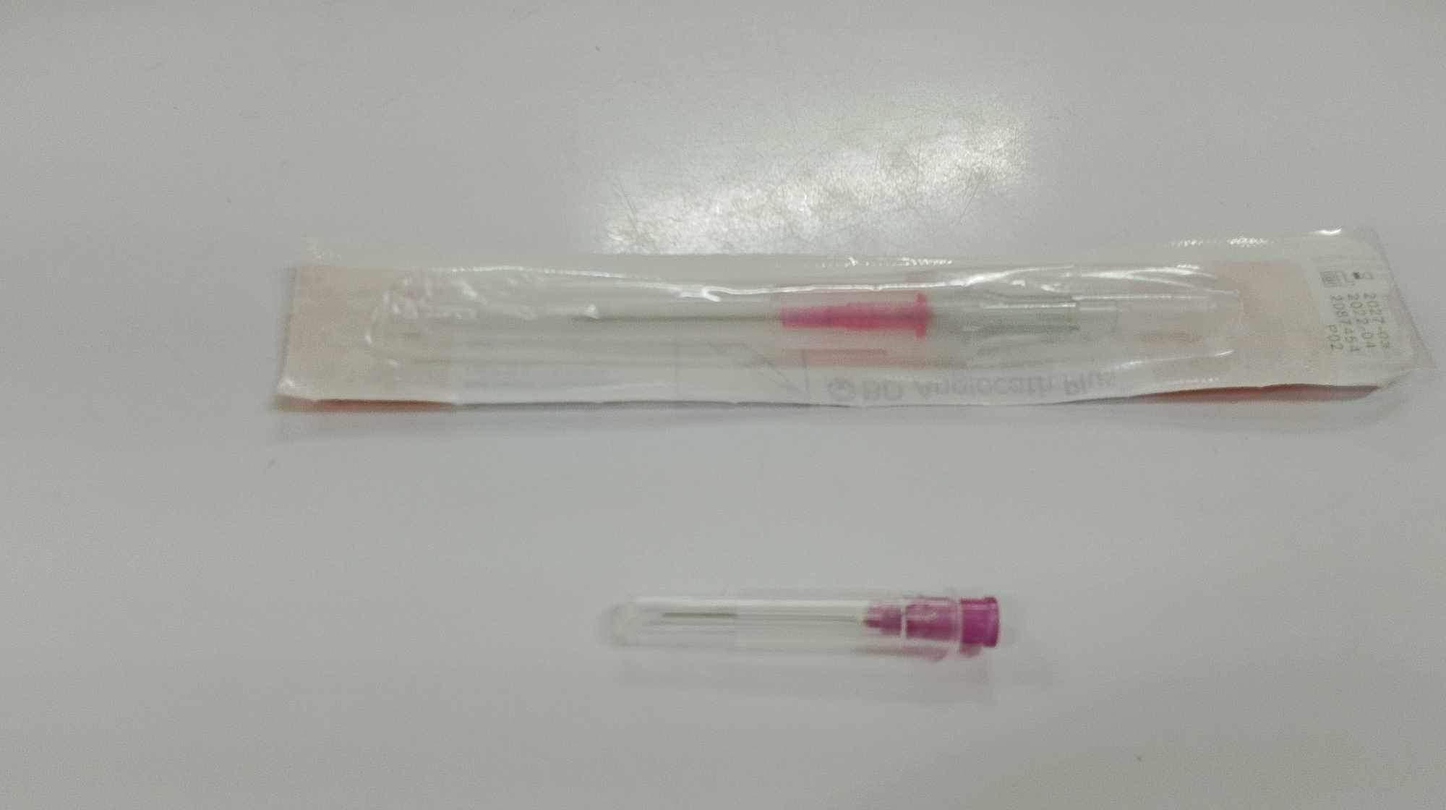Infectious: (274, 224, 1432, 410)
Sharps: (607, 591, 1001, 657)
